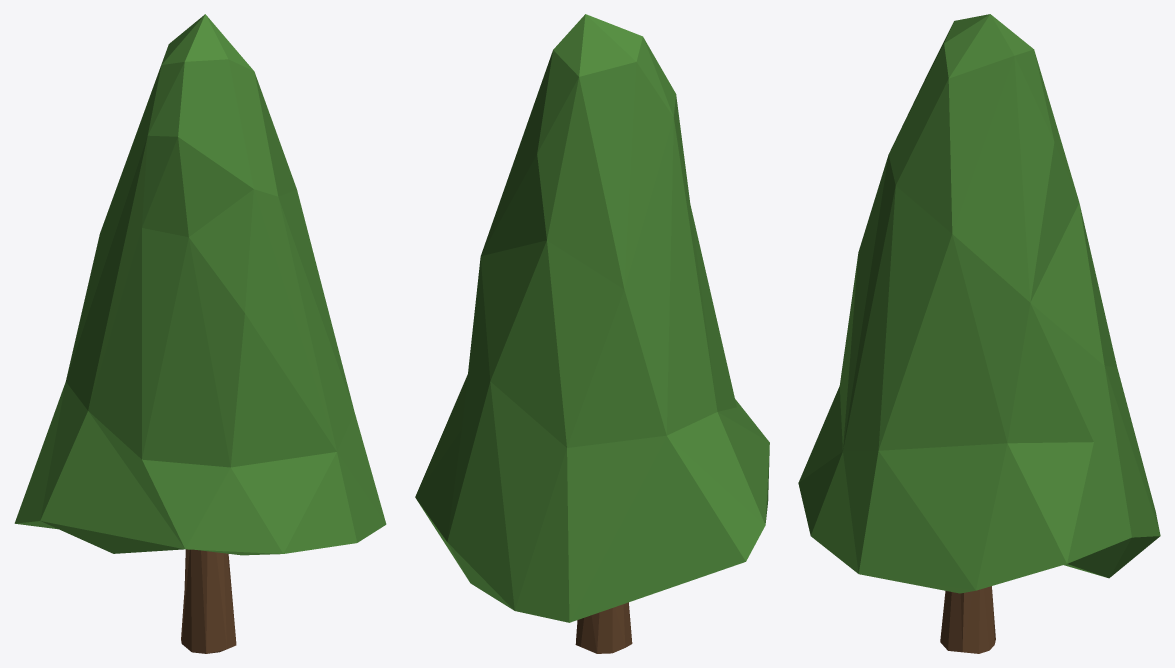
Rendered from shaped-tree-conical.glb.
3 views of the same model, side by side, from view 1: azimuth 30°, elevation 25°; view 2: azimuth 150°, elevation 25°; view 3: azimuth 270°, elevation 25° (orthographic). The views are drawn at different scales.
Visible parts, largest first — view 1: leaves_Sphere, trunk_Cube; view 2: leaves_Sphere, trunk_Cube; view 3: leaves_Sphere, trunk_Cube.
Part boxes in pixels (left/top/right/bottom): leaves_Sphere: left=14, top=14, right=386, bottom=555; trunk_Cube: left=181, top=549, right=236, bottom=653; leaves_Sphere: left=415, top=14, right=769, bottom=622; trunk_Cube: left=575, top=602, right=632, bottom=653; leaves_Sphere: left=798, top=14, right=1160, bottom=593; trunk_Cube: left=940, top=586, right=995, bottom=653.
Size of the model in its own units: 4.83 by 9.08 by 4.7.
